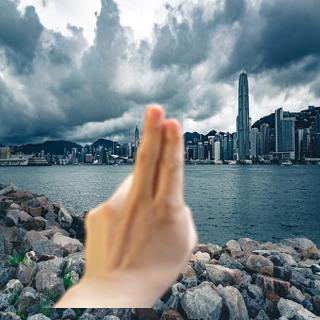DHAVE: (76, 97, 202, 294)
